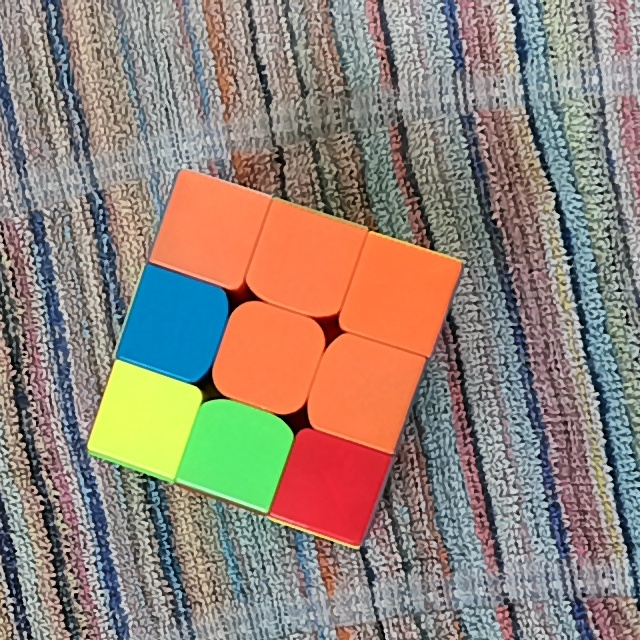tile: (266, 222, 342, 298), (364, 259, 438, 332), (230, 323, 305, 394), (173, 192, 245, 265), (139, 289, 212, 359), (201, 418, 274, 488), (326, 354, 401, 422), (294, 450, 365, 520), (111, 388, 178, 451)
